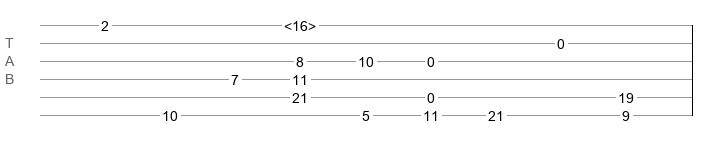0: (427, 54, 435, 64), (427, 90, 435, 100), (557, 36, 565, 46)
10: (162, 108, 178, 118), (358, 54, 374, 64)
11: (292, 72, 308, 82), (423, 108, 439, 118)
19: (618, 90, 634, 100)
2: (101, 18, 109, 28)
21: (292, 90, 308, 100), (488, 108, 504, 118)
5: (362, 108, 370, 118)
7: (231, 72, 239, 82)
8: (296, 54, 304, 64)
9: (622, 108, 630, 118)
harmonic: (284, 18, 316, 28)
